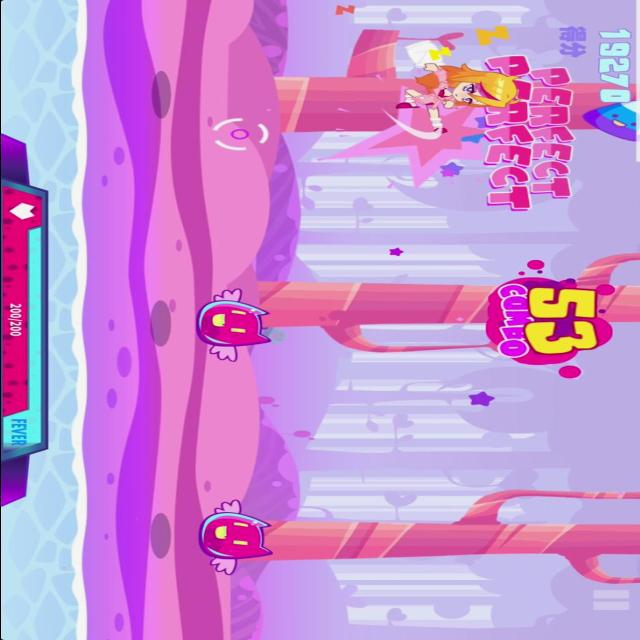jian: (578, 99, 638, 144)
mao: (190, 286, 280, 364), (194, 498, 276, 578)
